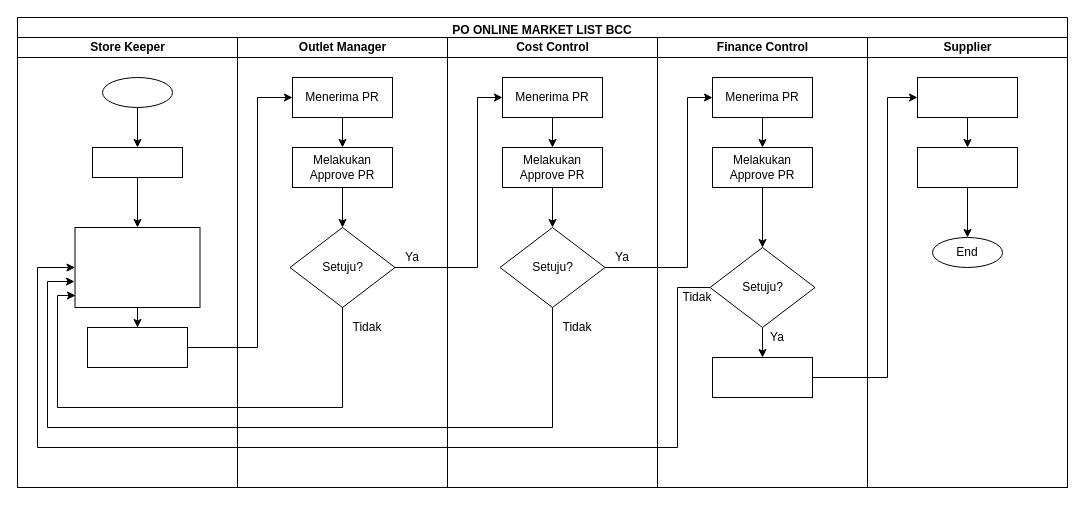
The diagram is 1085 pixels wide and 505 high, and some of its shapes have lost their labels. The shapes that lost their labels are listed below. From the top down, each one's centre as x and y in pixels, then its label:
the point at 137,92: Start
the point at 967,97: Menerima PO
the point at 137,162: Login
the point at 967,167: Pengiriman Barang ke Outlet
the point at 137,267: Create PR (input item dan qty)
the point at 137,347: Simpan dan Kirim PR
the point at 762,377: PO dikirim ke Supploer
